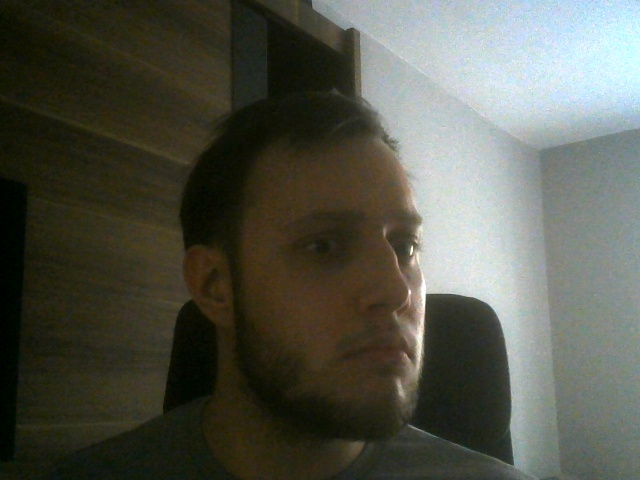surprised: (177, 92, 426, 434)
